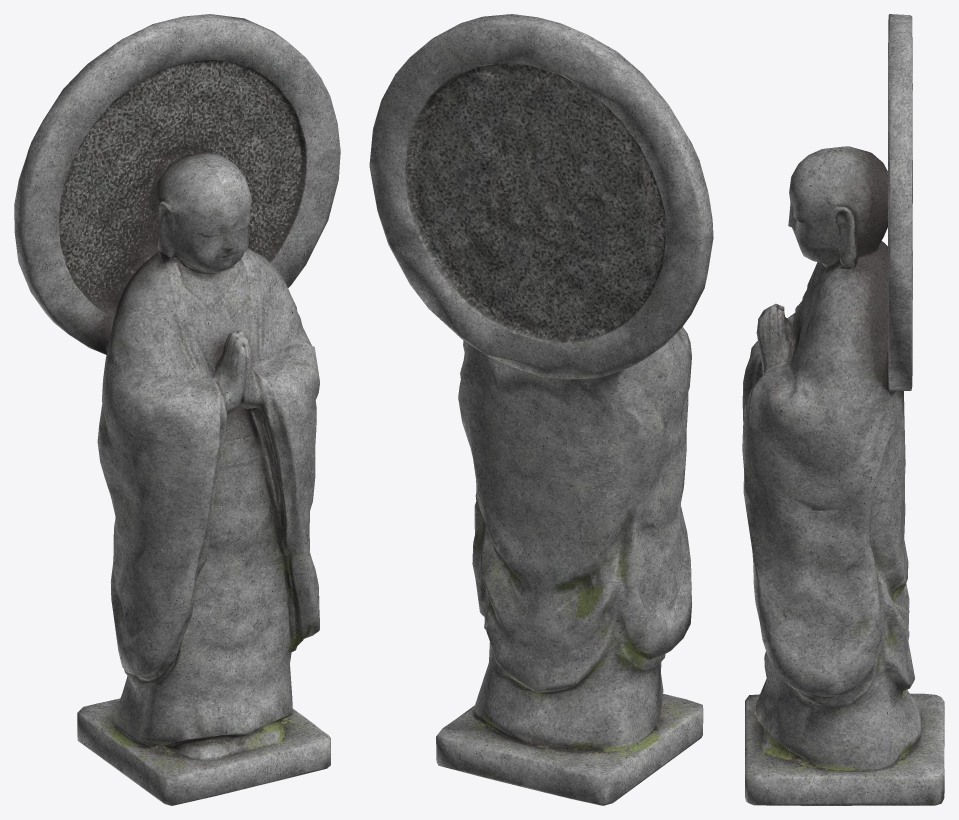
Rendered from arhat-jizo-halo.glb.
3 renders of one model, left to right at view 1: azimuth 30°, elevation 25°; view 2: azimuth 150°, elevation 25°; view 3: azimuth 270°, elevation 25°, orthographic. The views are drawn at different scales.
Visible parts, largest first — view 1: arhat-jizo-halo-low; view 2: arhat-jizo-halo-low; view 3: arhat-jizo-halo-low.
Part boxes in pixels (x1=…): arhat-jizo-halo-low: x1=14, y1=14, x2=340, y2=805; arhat-jizo-halo-low: x1=369, y1=14, x2=713, y2=805; arhat-jizo-halo-low: x1=742, y1=14, x2=944, y2=805.
Size of the model in its own units: 0.4646 by 0.9999 by 0.2499.
Materials: 1 (1 with a texture image).
